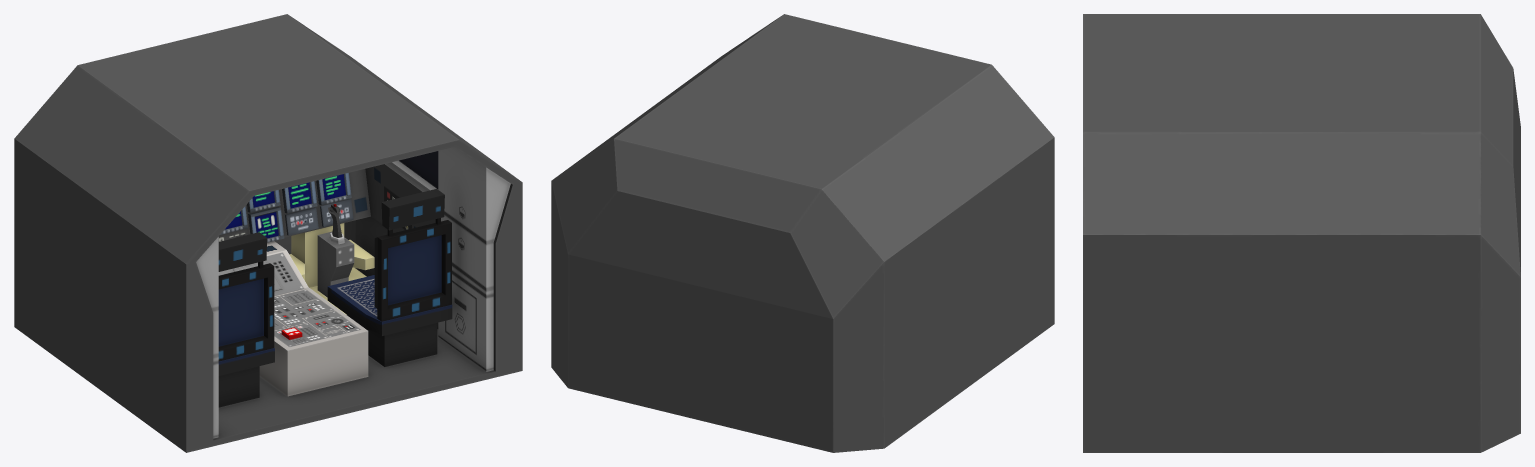
The model's file is CockpitControlCenter.obj.
3 views of the same model, side by side, from view 1: azimuth 30°, elevation 25°; view 2: azimuth 150°, elevation 25°; view 3: azimuth 270°, elevation 25° (orthographic). The views are drawn at different scales.
Visible parts, largest first — view 1: CockpitControlCenter_Mesh; view 2: CockpitControlCenter_Mesh; view 3: CockpitControlCenter_Mesh.
Boxes of the visible parts, x1,y1,x2,y2 form: CockpitControlCenter_Mesh: (14, 14, 522, 452); CockpitControlCenter_Mesh: (551, 14, 1054, 452); CockpitControlCenter_Mesh: (1083, 14, 1520, 452).
Size of the model in its own units: 11.93 by 8.35 by 11.63.
Materials: 1 (1 with a texture image).
